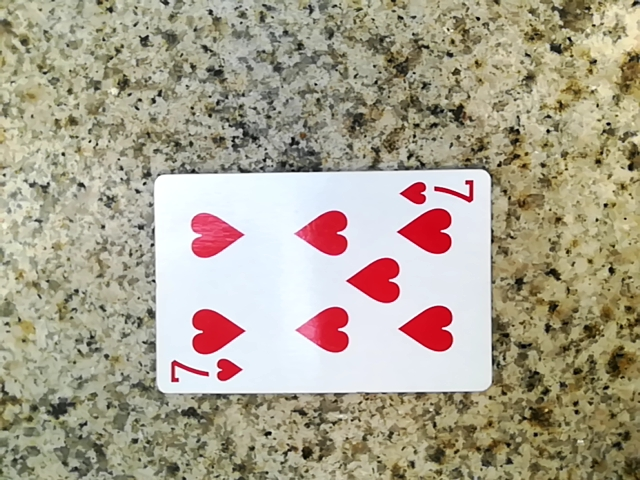hx 7: (146, 167, 487, 397)
